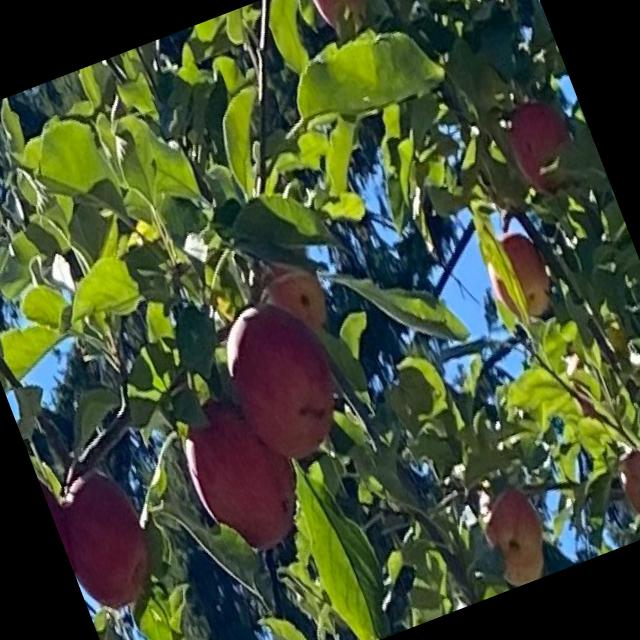Apples: (211, 286, 352, 464), (170, 382, 310, 558), (45, 459, 166, 616), (472, 480, 560, 590), (500, 88, 586, 196), (479, 226, 560, 326), (259, 250, 333, 340), (35, 465, 91, 582), (309, 0, 380, 38), (611, 441, 639, 529)
